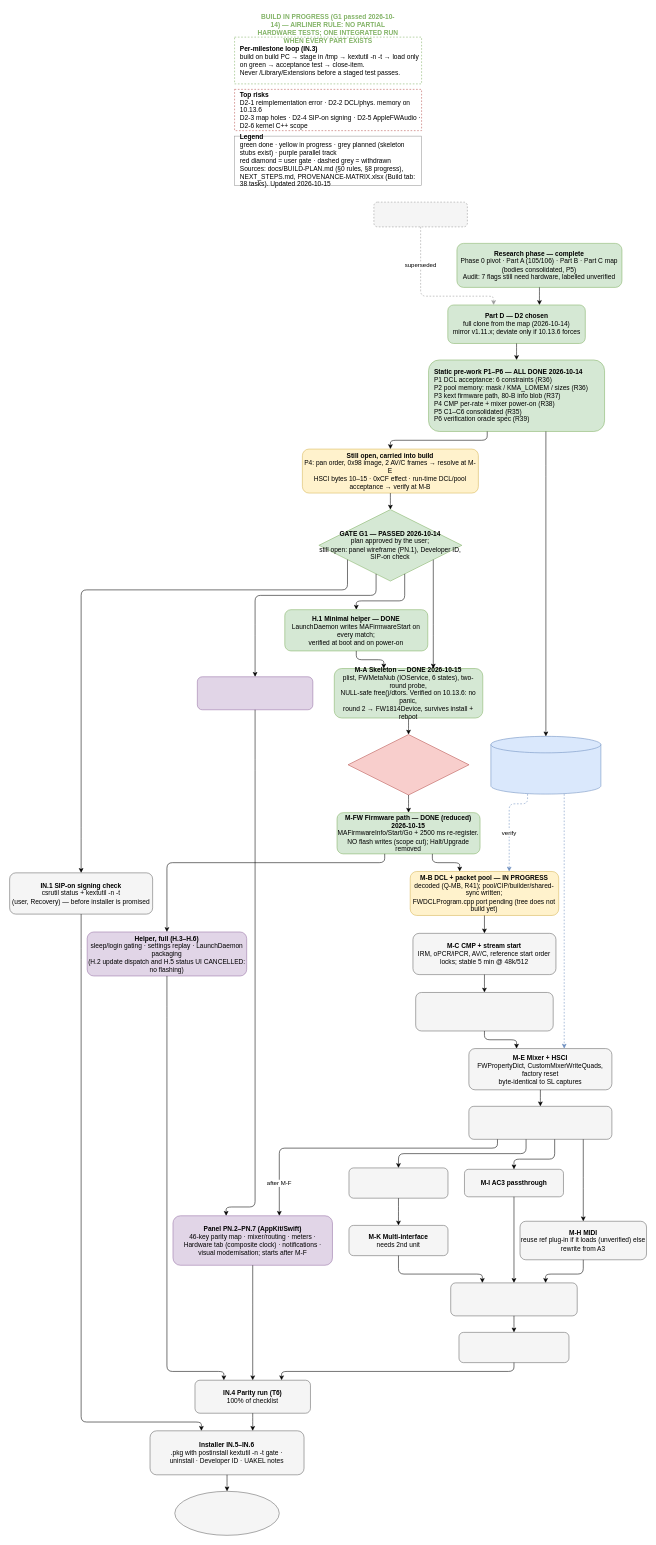
The diagram is 656 pixels wide and 1545 high, and some of its shapes have lost their labels. The centre of each missing label's shape, as x and y in pixels:
"D1 / D3 withdrawn" goes at (420,214).
"Delivered full-parity driver, 10.13.6" goes at (226,1513).
"GATE G2 user present power-cycle only, no hot-plug" goes at (408,764).
"M-D All 6 rates 44.1–192 kHz, FDF/SYT, format change latency vs capture 72" goes at (484,1011).
"M-F User client selectors 500–507, peak[52], notifications 0/1" goes at (540,1122).
"M-J 4-engine family + stereo-pair engines" goes at (398,1182).
"M-L Latency validation ≤ reference (C6 §9), loopback jig" goes at (513,1299).
"M-M Modernisation UX only, no regressions" goes at (513,1347).
"Oracle (P6) SL rig v1.9 captures 62–75 harness IN.2 compares clone vs capture" goes at (545,765).
"PN.1 Wireframe sign-off (user) before panel work" goes at (255,693).
